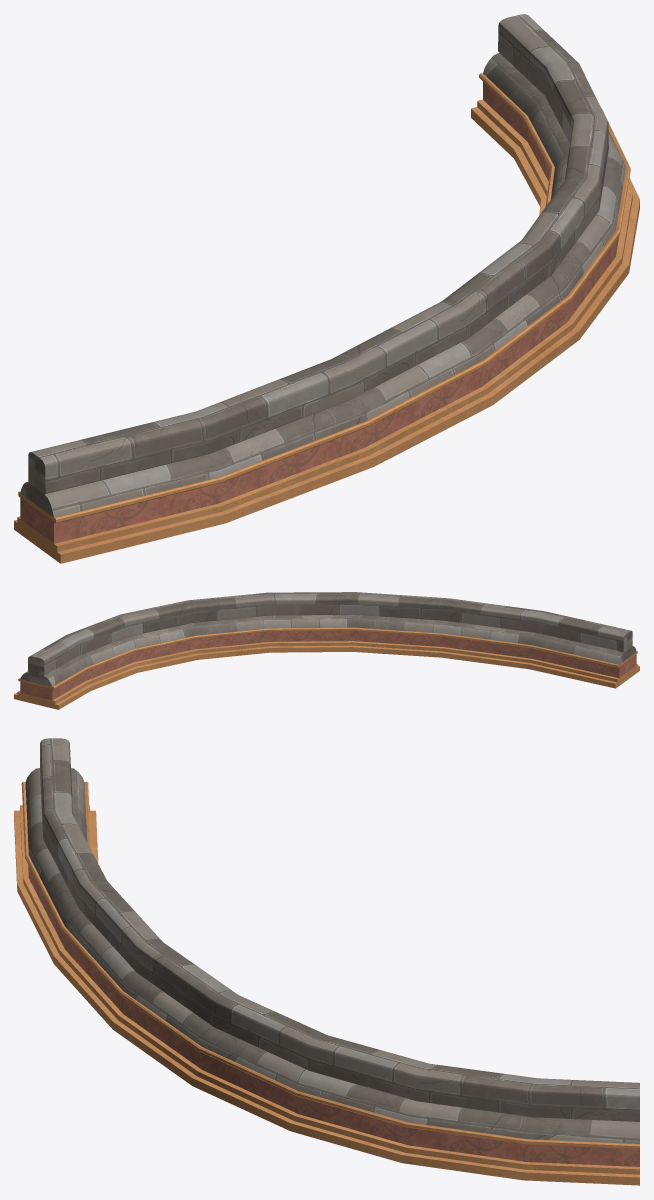
Rendered from rail_st_90_wide_v1.fbx.
3 renders of one model, top to bottom at view 1: azimuth 30°, elevation 25°; view 2: azimuth 150°, elevation 25°; view 3: azimuth 270°, elevation 25°, orthographic. The views are drawn at different scales.
Parts seen in each view (by area): view 1: rail_st_90_wide_top, rail_st_90_wide_mid3, rail_st_90_wide_bot, rail_st_90_wide_mid, rail_st_90_wide_mid2; view 2: rail_st_90_wide_top, rail_st_90_wide_mid3, rail_st_90_wide_bot, rail_st_90_wide_mid, rail_st_90_wide_mid2; view 3: rail_st_90_wide_top, rail_st_90_wide_mid3, rail_st_90_wide_bot, rail_st_90_wide_mid, rail_st_90_wide_mid2.
Boxes of the visible parts, box(x1,y1,x2,y2) form: rail_st_90_wide_top: box(28, 14, 608, 494); rail_st_90_wide_mid3: box(20, 53, 625, 517); rail_st_90_wide_bot: box(14, 99, 639, 563); rail_st_90_wide_mid: box(20, 82, 619, 543); rail_st_90_wide_mid2: box(18, 73, 630, 523); rail_st_90_wide_top: box(28, 592, 632, 675); rail_st_90_wide_mid3: box(20, 615, 636, 686); rail_st_90_wide_bot: box(14, 641, 639, 709); rail_st_90_wide_mid: box(20, 615, 636, 700); rail_st_90_wide_mid2: box(18, 614, 637, 689); rail_st_90_wide_top: box(40, 738, 639, 1121); rail_st_90_wide_mid3: box(25, 768, 639, 1143); rail_st_90_wide_bot: box(14, 805, 639, 1185); rail_st_90_wide_mid: box(28, 865, 639, 1166); rail_st_90_wide_mid2: box(21, 781, 639, 1149).
Bounding box in the file's own units: 8.14 × 0.8449 × 5.89.
